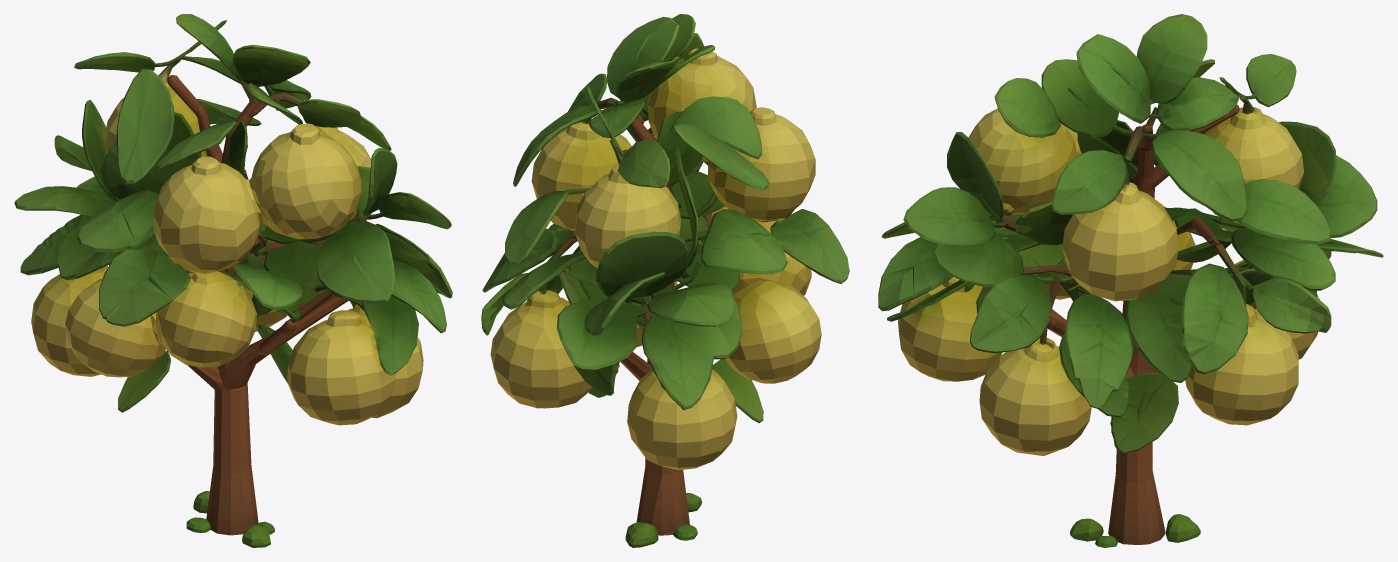
The model's file is tripo_convert_39c73106-54d7-488f-8240-99acf8acedae.fbx.
3 views of the same model, side by side, from view 1: azimuth 30°, elevation 25°; view 2: azimuth 150°, elevation 25°; view 3: azimuth 270°, elevation 25° (orthographic). The views are drawn at different scales.
Visible parts, largest first — view 1: tripo_node_39c73106; view 2: tripo_node_39c73106; view 3: tripo_node_39c73106.
Part boxes in pixels (x1,y1,x2,y2): tripo_node_39c73106: [14, 14, 452, 547]; tripo_node_39c73106: [481, 14, 849, 547]; tripo_node_39c73106: [878, 14, 1383, 547].
Bounding box in the file's own units: 0.6786 × 0.9994 × 0.9075.
1 material, 1 textured.
